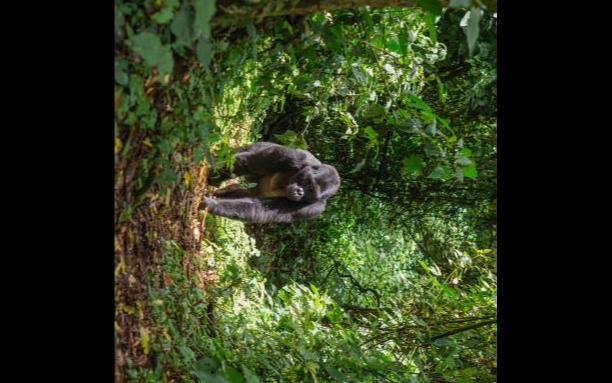goriile_montagne: (195, 132, 385, 232)
